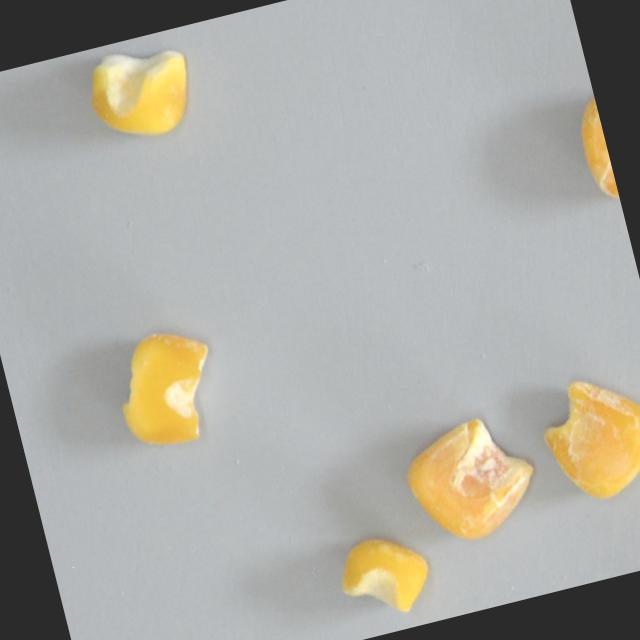no_canjicado: (79, 35, 201, 150), (327, 524, 435, 627)
pelicula: (395, 407, 546, 552), (101, 318, 230, 458), (528, 363, 640, 509), (567, 94, 621, 211)
